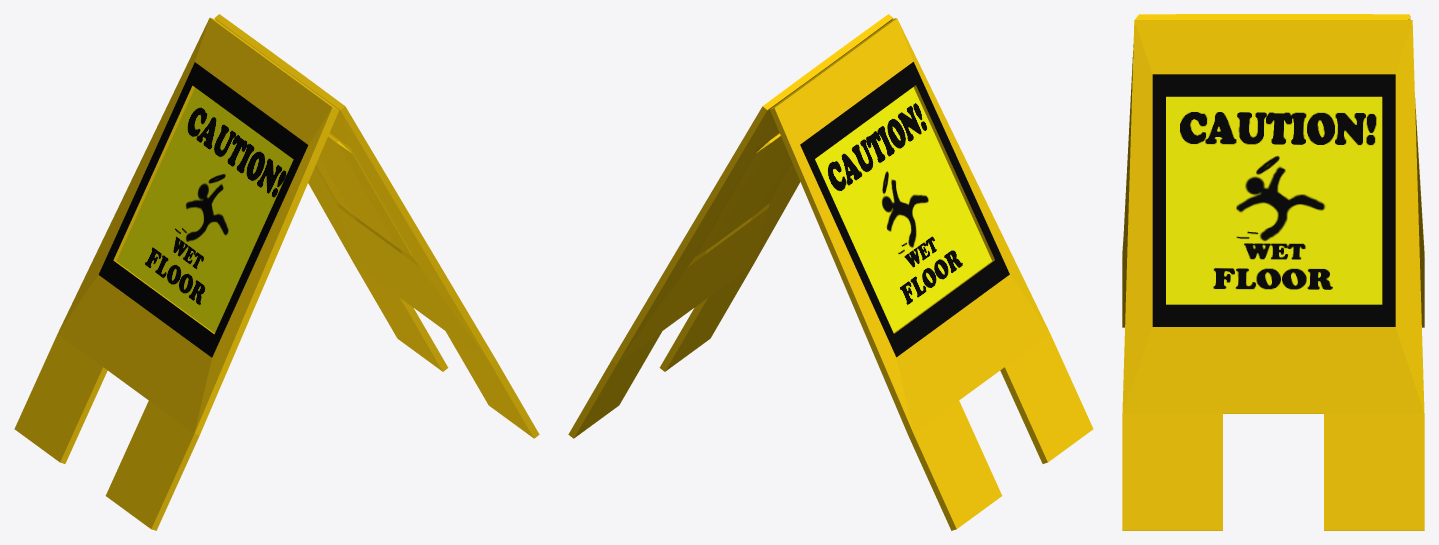
File: CAUTION (1).fbx
The picture shows the model from 3 angles, left to right: view 1: azimuth 30°, elevation 25°; view 2: azimuth 150°, elevation 25°; view 3: azimuth 270°, elevation 25°; orthographic projection. The views are drawn at different scales.
Visible parts, largest first — view 1: Plane.001; view 2: Plane.001; view 3: Plane.001.
Part boxes in pixels (box(x1,y1,x2,y2)): Plane.001: box(14, 14, 539, 530); Plane.001: box(568, 14, 1093, 530); Plane.001: box(1122, 14, 1424, 530).
Size of the model in its own units: 178 by 163 by 109.
